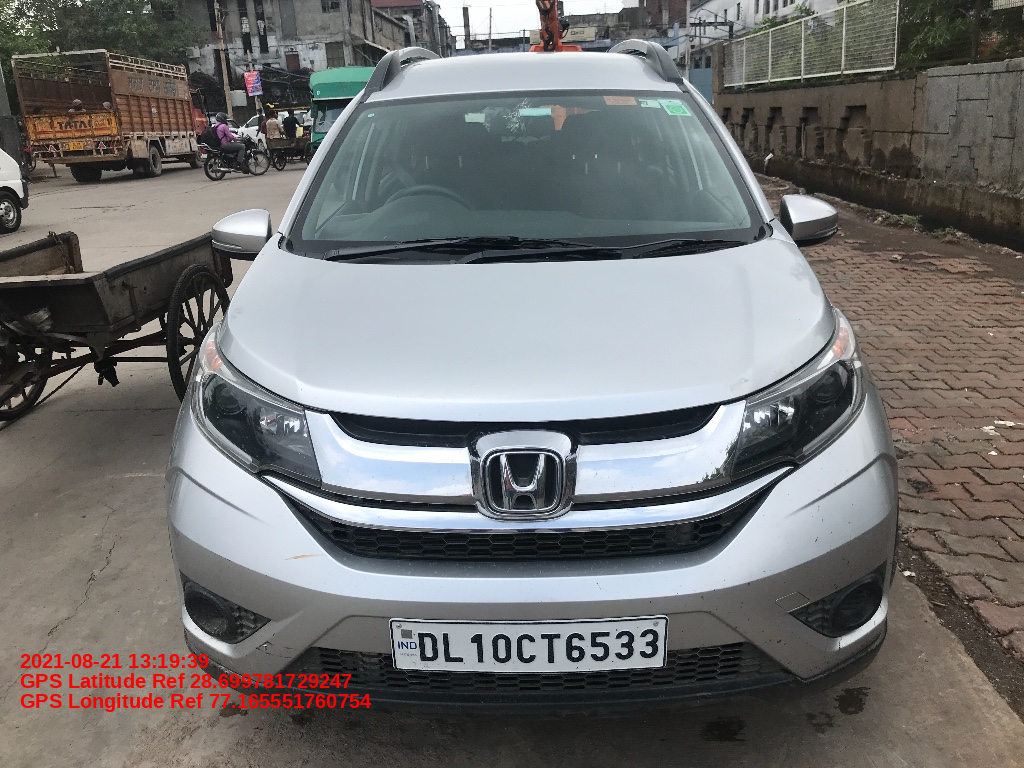Scratched: (805, 491, 861, 549), (279, 541, 336, 570), (251, 638, 303, 660), (756, 627, 791, 649), (828, 635, 854, 656)
